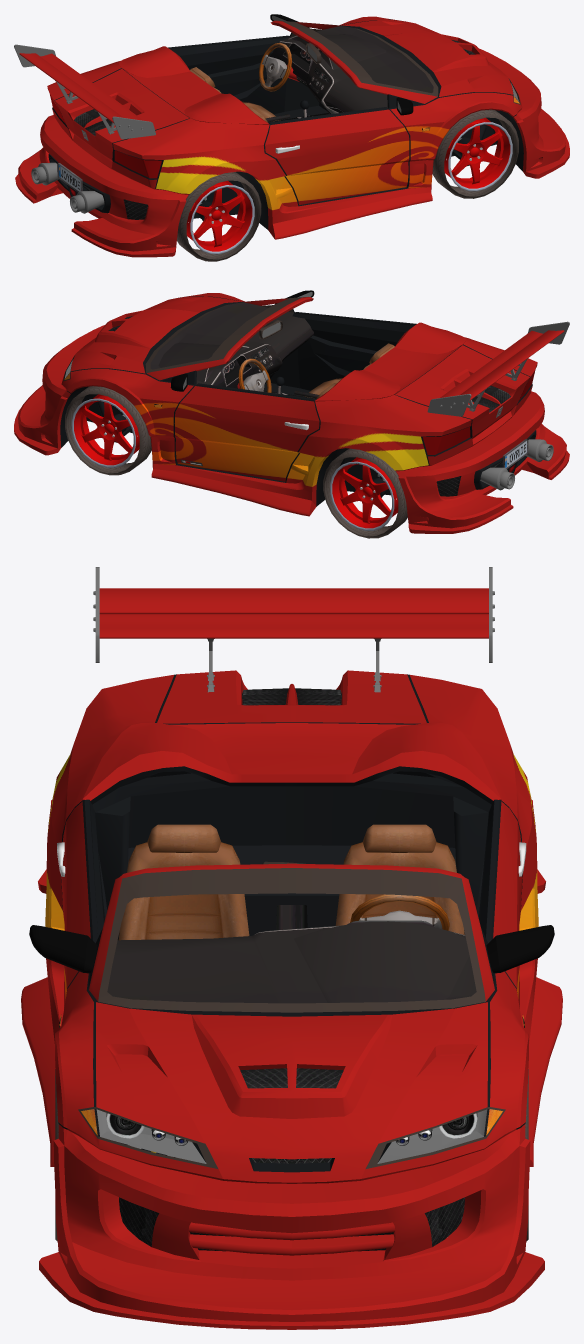
File: RacingCar.gltf
The picture shows the model from 3 angles, top to bottom: view 1: azimuth 30°, elevation 25°; view 2: azimuth 150°, elevation 25°; view 3: azimuth 270°, elevation 25°; orthographic projection. The views are drawn at different scales.
Parts seen in each view (by area): view 1: node_id158_54, node_id134_13, node_id132_58, node_id156_4, node_id105_482, node_id105_48, node_id66_18, node_id111_392, node_id111_39, node_id152_52, node_id64_6, node_id59_14 (+7 smaller); view 2: node_id158_54, node_id134_13, node_id132_58, node_id156_4, node_id114_26, node_id114_262, node_id66_18, node_id120_12, node_id120_1, node_id152_52, node_id64_6, node_id59_14 (+6 smaller); view 3: node_id158_54, node_id134_13, node_id132_58, node_id66_18, node_id152_52, node_id156_4, node_id76_30, node_id162_56, node_id166_65, node_id69_21, node_id142_61, node_id78_32 (+3 smaller).
Part boxes in pixels (x1,y1,x2,y2): node_id158_54: (18,16,565,251); node_id134_13: (48,19,523,229); node_id132_58: (265,26,433,122); node_id156_4: (15,131,569,257); node_id105_482: (444,117,512,191); node_id105_48: (186,180,254,254); node_id66_18: (19,53,143,123); node_id111_392: (432,109,518,198); node_id111_39: (177,172,261,261); node_id152_52: (278,20,520,104); node_id64_6: (14,44,155,139); node_id59_14: (31,162,104,213); node_id158_54: (18,293,566,528); node_id134_13: (60,296,536,506); node_id132_58: (150,302,318,399); node_id156_4: (14,407,569,533); node_id114_26: (330,457,398,530); node_id114_262: (71,394,139,467); node_id66_18: (440,330,564,400); node_id120_12: (65,386,151,475); node_id120_1: (323,448,407,538); node_id152_52: (63,297,305,381); node_id64_6: (427,321,569,416); node_id59_14: (480,439,553,490); node_id158_54: (45,670,538,1321); node_id134_13: (58,674,525,1172); node_id132_58: (107,905,476,1003); node_id66_18: (99,588,488,638); node_id152_52: (78,868,505,1168); node_id156_4: (21,869,562,1329); node_id76_30: (118,842,249,940); node_id162_56: (119,688,464,1251); node_id166_65: (335,824,464,934); node_id69_21: (29,925,554,973); node_id142_61: (96,1109,487,1163); node_id78_32: (147,824,220,852).
Size of the model in its own units: 1.07 by 0.3361 by 0.512.
43 materials, 43 textured.
